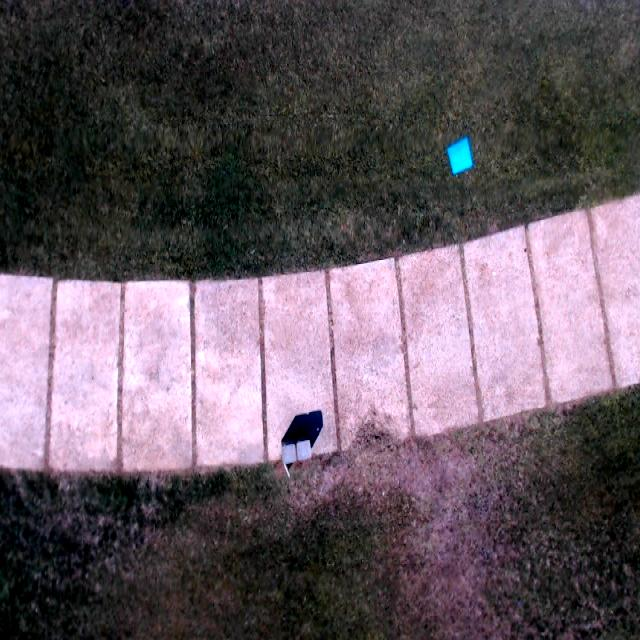blue_square: (446, 136, 475, 176)
